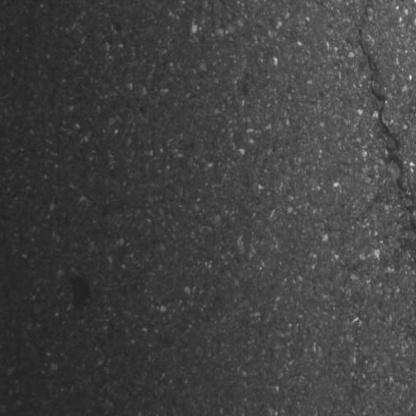Cracks: (354, 28, 416, 342), (360, 0, 378, 21)
